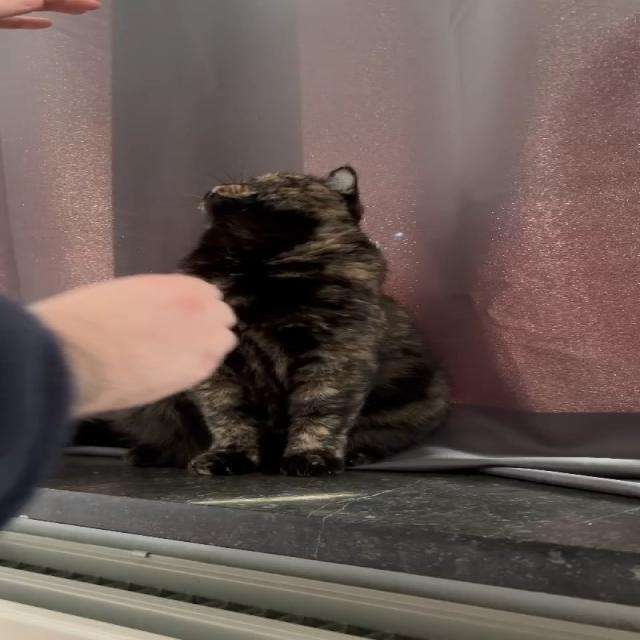authorized: (96, 164, 452, 477)
